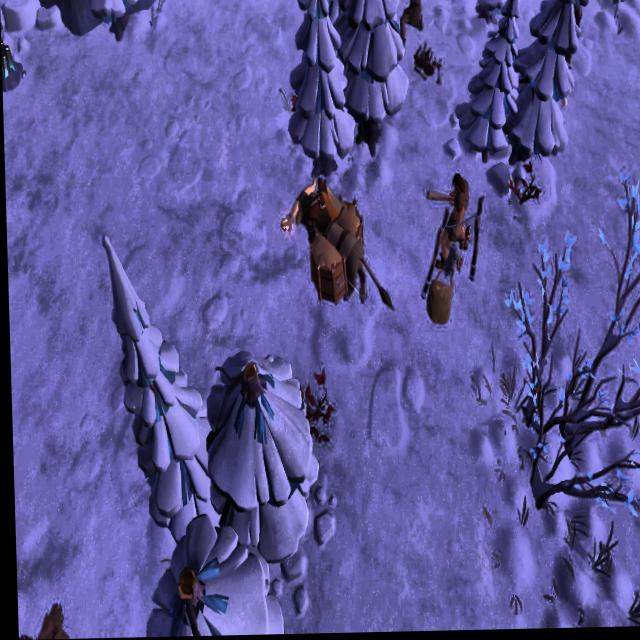enemy_factionKeeper: (425, 175, 469, 268)
